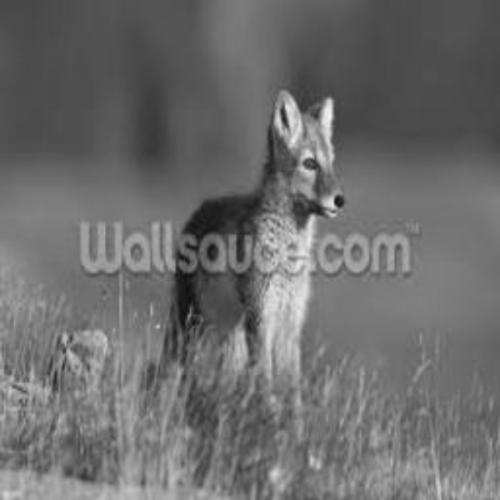arctic_fox-endangered: (158, 89, 348, 378)
